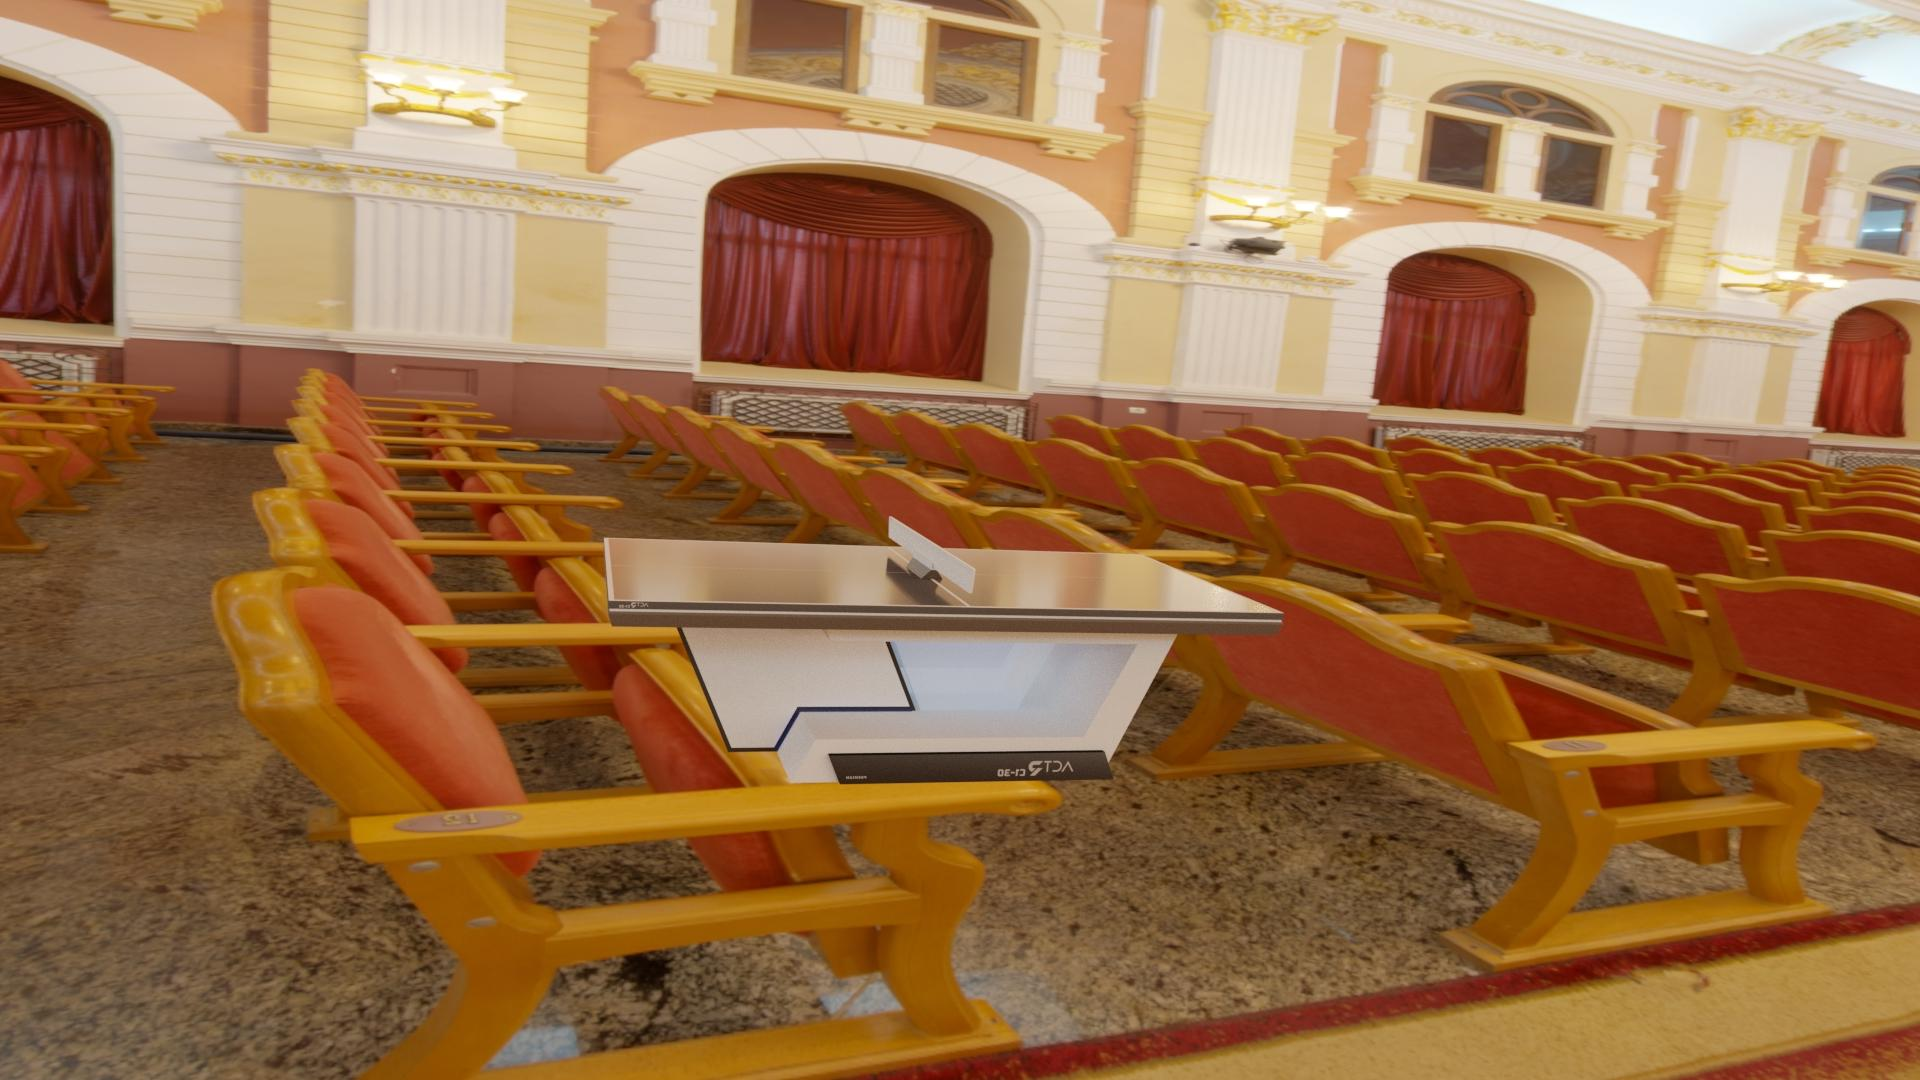table: (608, 538, 1278, 612)
